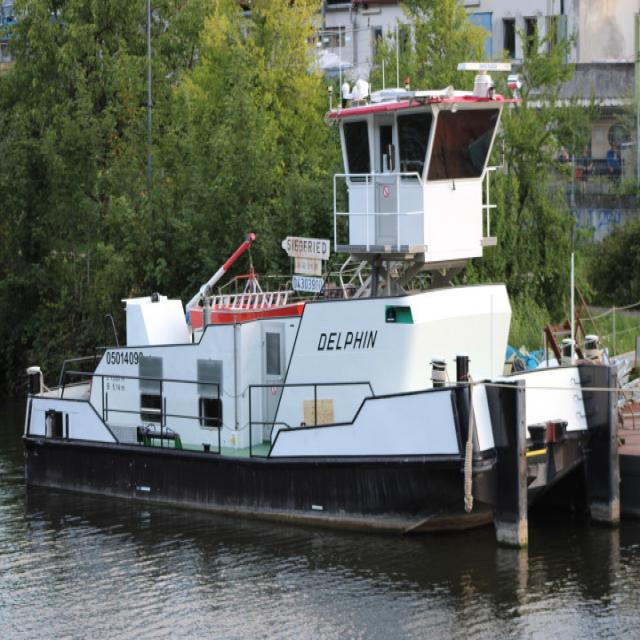tugboat: (14, 56, 627, 559)
